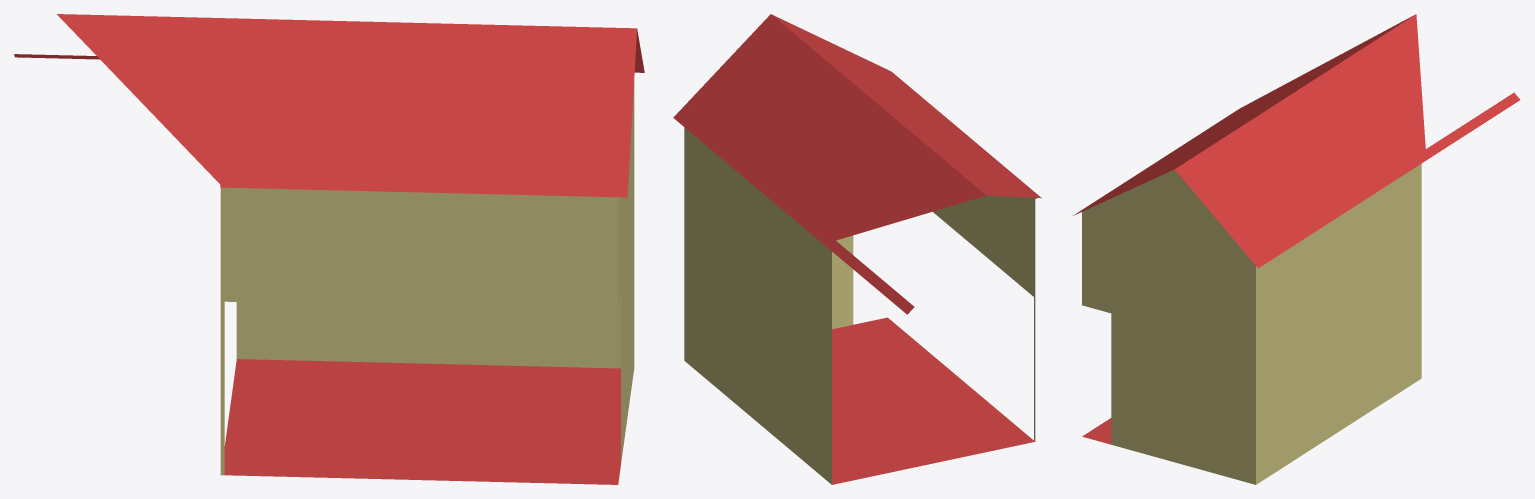
3 views of the same model, side by side, from view 1: azimuth 30°, elevation 25°; view 2: azimuth 150°, elevation 25°; view 3: azimuth 270°, elevation 25° (orthographic). The views are drawn at different scales.
Size of the model in its own units: 13.94 by 14.81 by 10.8.
